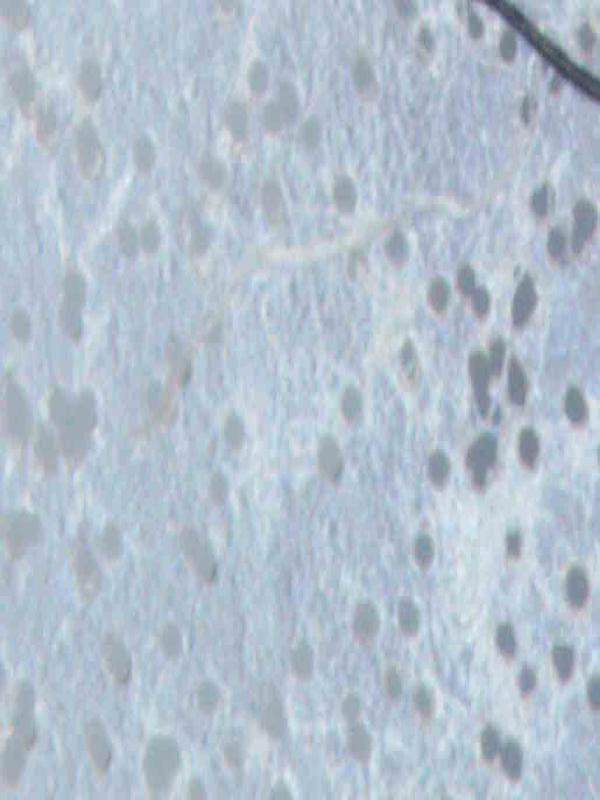microplastic: (1, 1, 598, 797)
